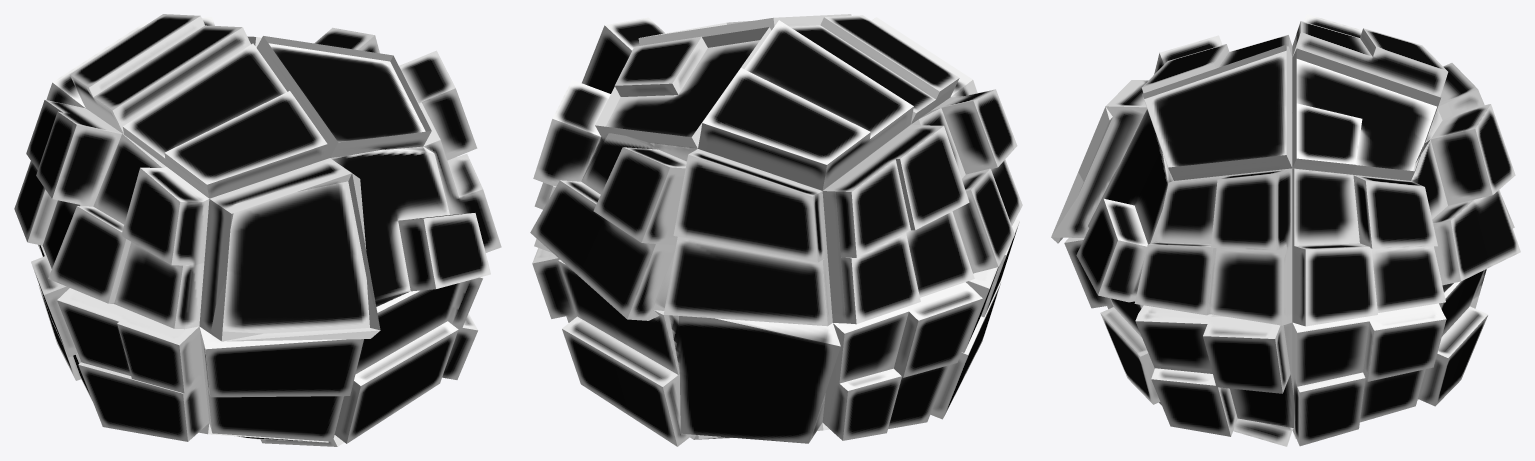
The model's file is asteroid_test_1.fbx.
3 renders of one model, left to right at view 1: azimuth 30°, elevation 25°; view 2: azimuth 150°, elevation 25°; view 3: azimuth 270°, elevation 25°, orthographic. The views are drawn at different scales.
Visible parts, largest first — view 1: asteroid_final_export; view 2: asteroid_final_export; view 3: asteroid_final_export.
Boxes of the visible parts, x1,y1,x2,y2 form: asteroid_final_export: (14, 14, 501, 446); asteroid_final_export: (530, 14, 1022, 446); asteroid_final_export: (1051, 14, 1520, 446).
Size of the model in its own units: 198 by 198 by 185.
